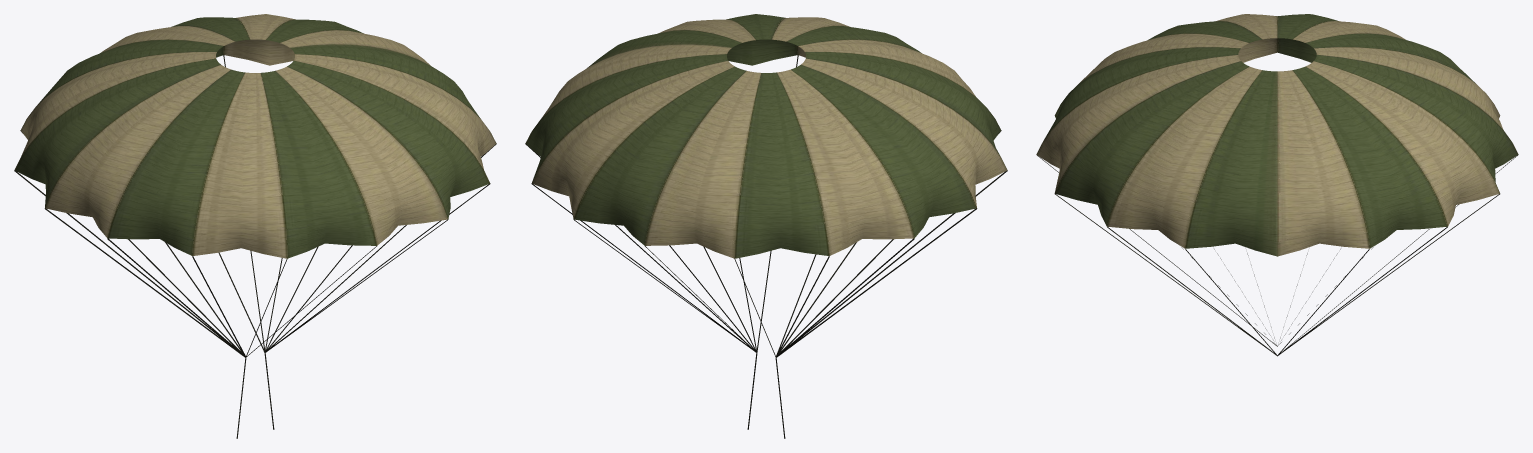
The model's file is parachute.glb.
The picture shows the model from 3 angles, left to right: view 1: azimuth 30°, elevation 25°; view 2: azimuth 150°, elevation 25°; view 3: azimuth 270°, elevation 25°; orthographic projection.
Parts seen in each view (by area): view 1: Zeil; view 2: Zeil; view 3: Zeil.
Boxes of the visible parts, <box> form: Zeil: <box>14,14,496,438</box>; Zeil: <box>525,14,1007,438</box>; Zeil: <box>1036,14,1518,356</box>.
Bounding box in the file's own units: 5.29 × 4.53 × 5.28.
2 materials, 1 textured.
